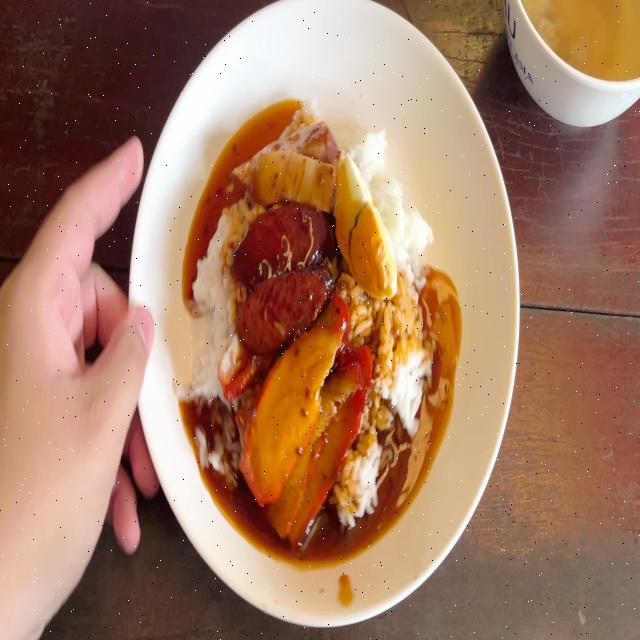boiled_egg: (343, 150, 386, 307)
chainese_sausage: (230, 216, 331, 331)
crispy_pork: (251, 119, 339, 212)
red_pork: (245, 338, 364, 516)
red_pork_and_crispy_pork: (186, 90, 435, 523)
rice: (370, 138, 432, 289), (377, 296, 427, 449)
